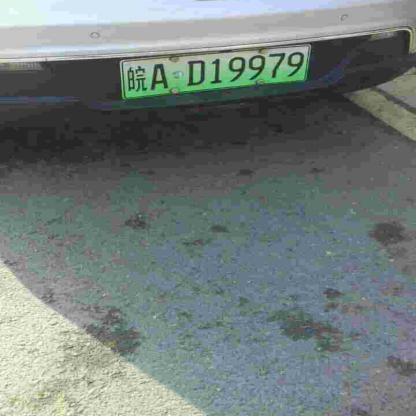lp: (122, 45, 310, 98)
